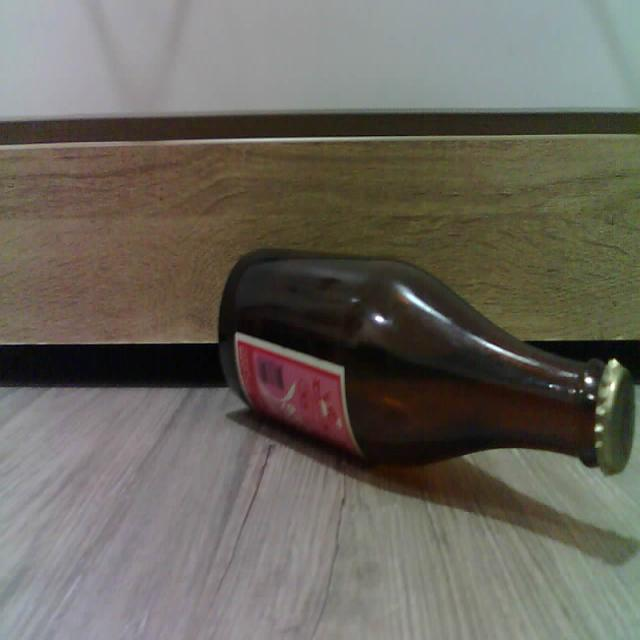bottle: (218, 249, 635, 474)
